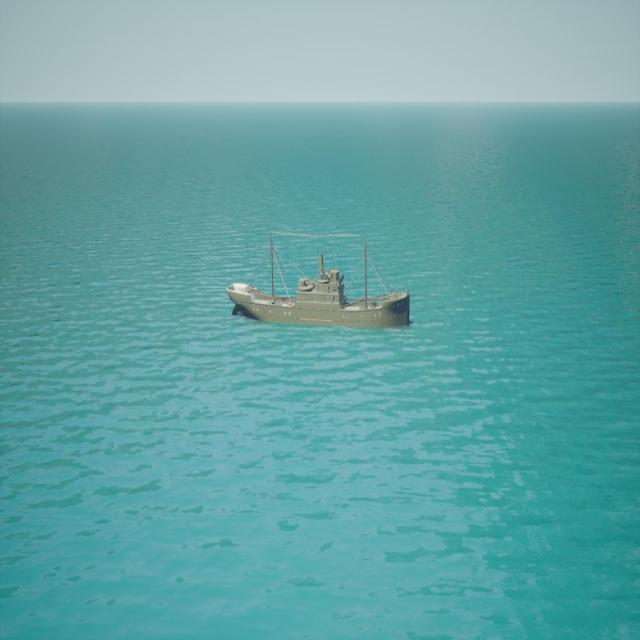fishing ship: (227, 234, 413, 330)
